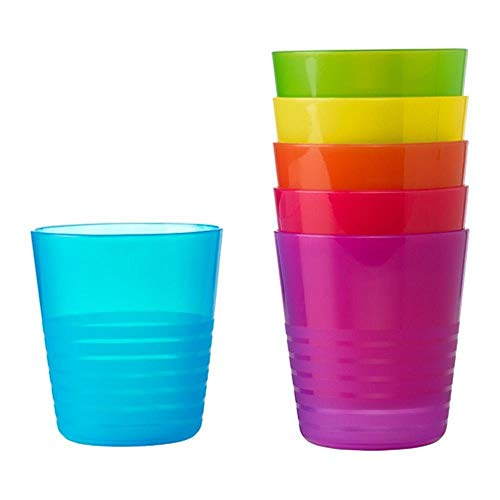plastic_glass: (27, 218, 232, 453)
